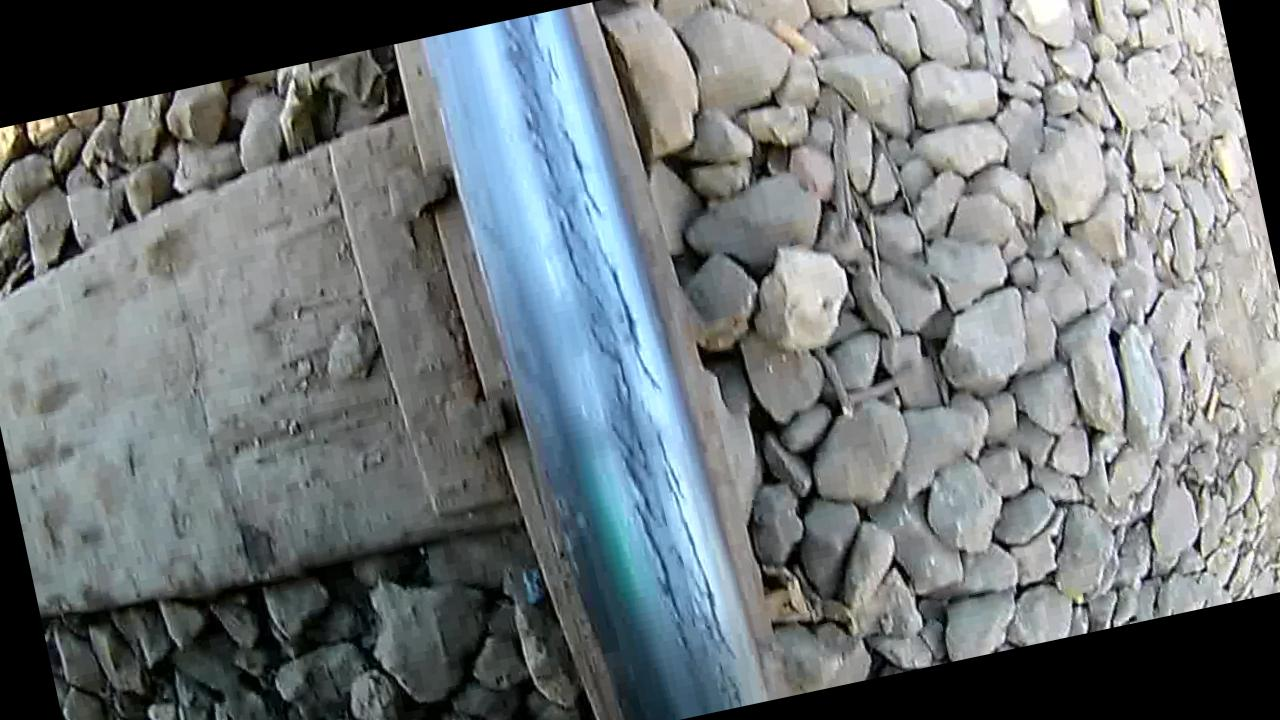normal_track: (473, 4, 746, 720)
